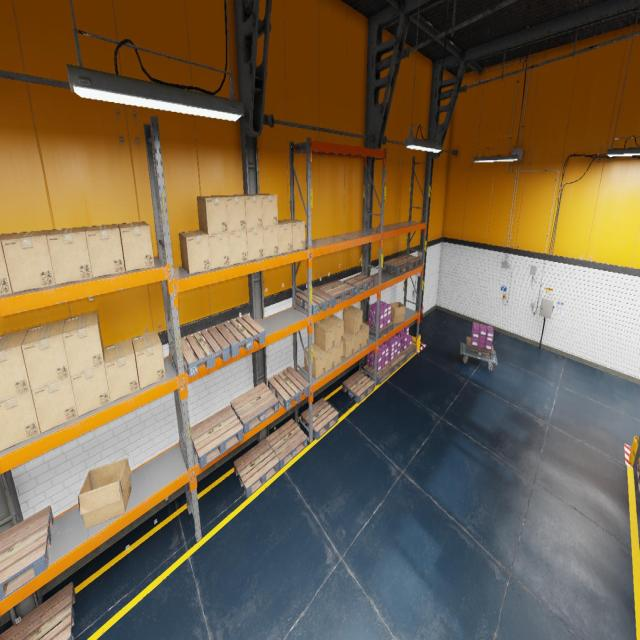box: (78, 458, 131, 528), (1, 230, 56, 293), (21, 320, 70, 390), (62, 311, 104, 376), (46, 227, 92, 284), (71, 352, 110, 417), (32, 377, 78, 432), (0, 391, 41, 452), (0, 328, 31, 402), (104, 338, 139, 402), (85, 224, 125, 277), (132, 330, 166, 389), (118, 222, 154, 272), (178, 230, 210, 274), (197, 196, 228, 234), (218, 195, 246, 232), (237, 194, 263, 229), (208, 232, 230, 269), (304, 343, 326, 379), (281, 218, 305, 250), (0, 233, 12, 295), (255, 194, 278, 226), (314, 318, 335, 352), (228, 230, 248, 265), (324, 314, 343, 346), (246, 228, 264, 260), (343, 305, 362, 334), (263, 225, 279, 257), (278, 220, 292, 254), (317, 346, 335, 372), (344, 328, 362, 353), (389, 302, 405, 324), (343, 328, 354, 358), (361, 322, 369, 348), (335, 342, 343, 366)
pallets: (0, 505, 53, 601), (0, 581, 75, 639), (190, 405, 243, 469), (234, 439, 279, 498), (230, 382, 279, 434), (181, 326, 230, 377), (216, 314, 266, 357), (266, 418, 307, 468), (268, 366, 309, 410), (301, 398, 338, 440), (296, 287, 335, 315), (342, 370, 375, 403), (316, 280, 354, 304), (363, 363, 393, 385), (466, 336, 494, 359), (344, 274, 374, 294), (364, 320, 393, 338), (381, 258, 411, 275), (395, 254, 422, 269), (388, 353, 405, 372), (400, 344, 417, 361), (636, 461, 640, 497), (639, 497, 640, 506)
